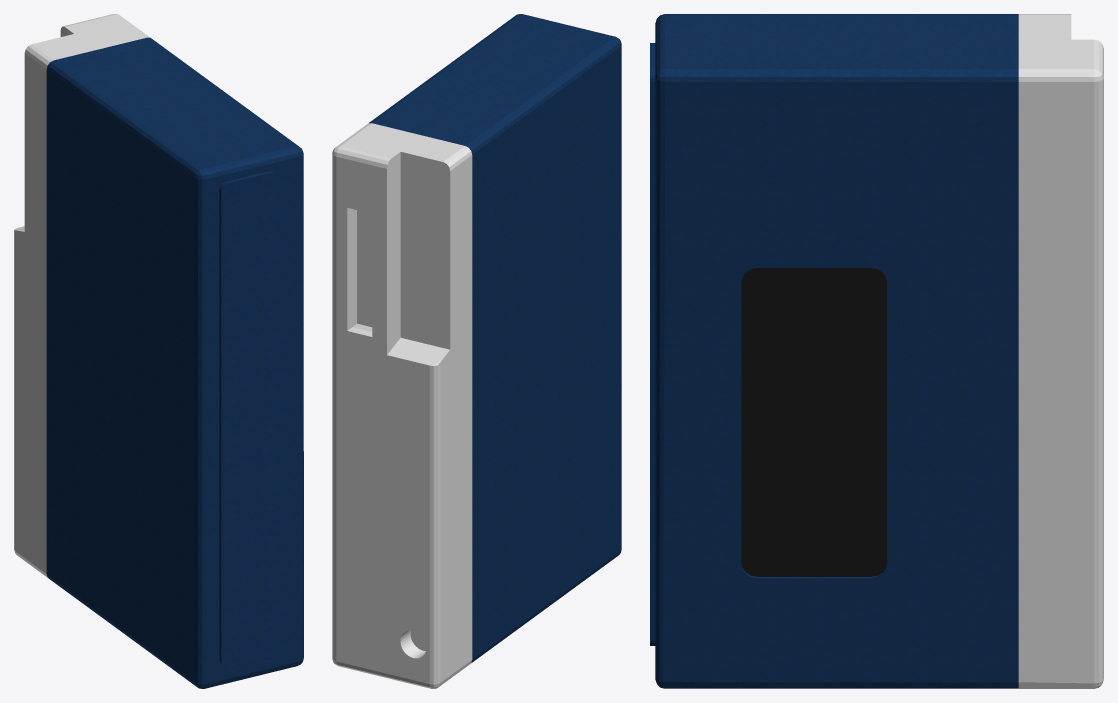
The picture shows the model from 3 angles, left to right: view 1: azimuth 30°, elevation 25°; view 2: azimuth 150°, elevation 25°; view 3: azimuth 270°, elevation 25°; orthographic projection. The views are drawn at different scales.
Visible parts, largest first — view 1: Cube; view 2: Cube; view 3: Cube.
Boxes of the visible parts, left/top/right/bottom form: Cube: left=14, top=14, right=303, bottom=688; Cube: left=332, top=14, right=621, bottom=688; Cube: left=650, top=14, right=1103, bottom=688.
Size of the model in its own units: 2.9 by 13.4 by 8.9.
3 materials, 1 textured.
